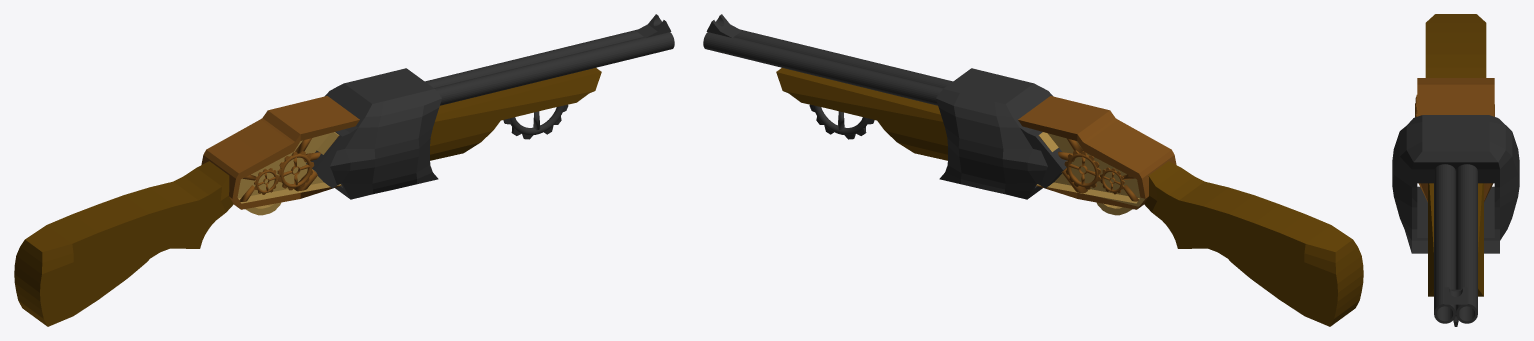
The model's file is ESCOPETA DEFINITIVO.fbx.
3 views of the same model, side by side, from view 1: azimuth 30°, elevation 25°; view 2: azimuth 150°, elevation 25°; view 3: azimuth 270°, elevation 25° (orthographic). The views are drawn at different scales.
Parts seen in each view (by area): view 1: Cube, Cube.003, Cube.001, Cylinder, Cylinder.001, Cylinder.019, Cylinder.005; view 2: Cube, Cube.003, Cube.001, Cylinder.001, Cylinder, Cylinder.019, Cylinder.013; view 3: Cube.001, Cube.003, Cube, Cylinder, Cylinder.001, Cube.002.
Part boxes in pixels (box(x1,y1,x2,y2)): Cube: box(14, 161, 233, 326); Cube.003: box(201, 68, 601, 209); Cube.001: box(306, 68, 441, 199); Cylinder: box(434, 32, 674, 105); Cylinder.001: box(425, 29, 643, 88); Cylinder.019: box(503, 104, 568, 139); Cylinder.005: box(277, 151, 314, 190); Cube: box(1144, 161, 1363, 326); Cube.003: box(776, 68, 1176, 209); Cube.001: box(936, 68, 1071, 199); Cylinder.001: box(703, 32, 943, 105); Cylinder: box(734, 29, 952, 88); Cylinder.019: box(809, 104, 874, 139); Cylinder.013: box(1064, 150, 1101, 189); Cube.001: box(1392, 115, 1519, 253); Cube.003: box(1417, 78, 1494, 296); Cube: box(1425, 14, 1486, 77); Cylinder: box(1434, 164, 1455, 323); Cylinder.001: box(1456, 164, 1477, 323); Cube.002: box(1444, 287, 1467, 304).
Size of the model in its own units: 1460 by 321 by 213.
